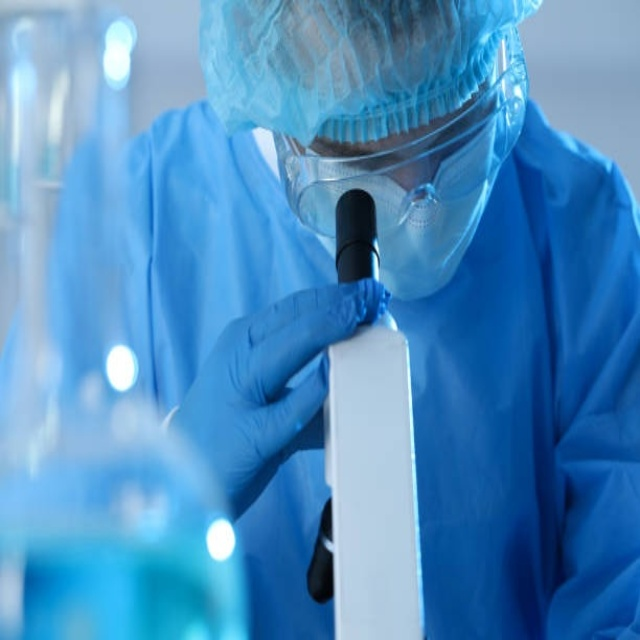Gafas: (281, 56, 529, 240)
Guantes: (164, 278, 380, 533)
Mascara: (273, 22, 530, 301)
